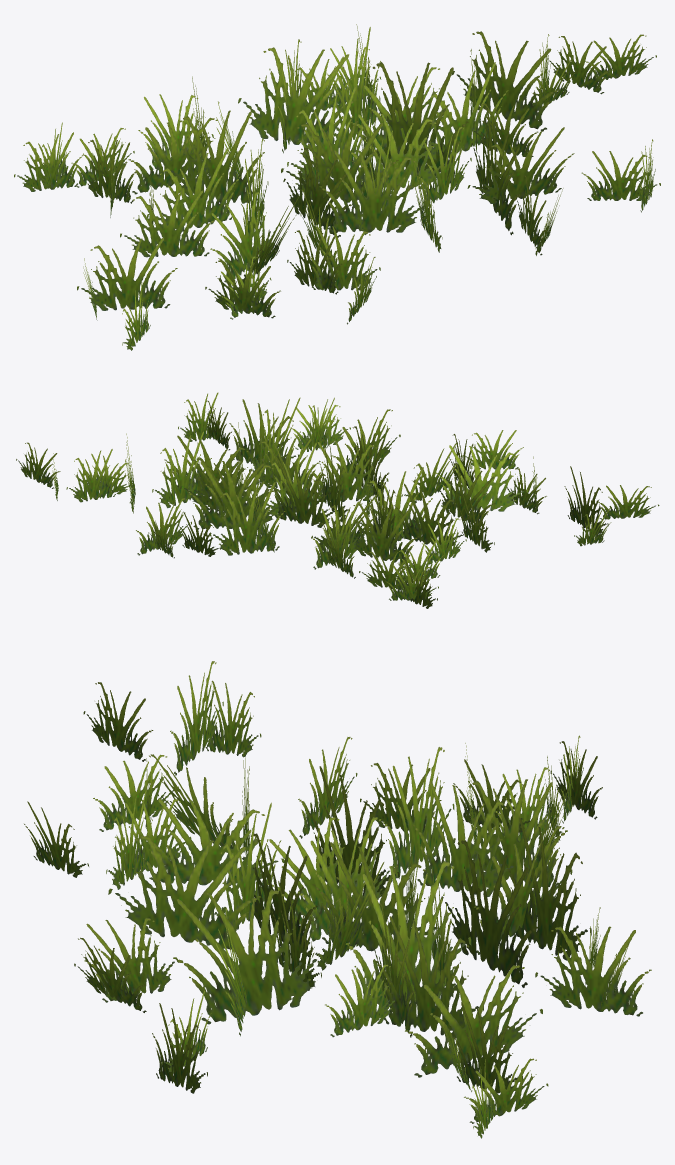
The model's file is zz_cao_3.FBX.
The picture shows the model from 3 angles, top to bottom: view 1: azimuth 30°, elevation 25°; view 2: azimuth 150°, elevation 25°; view 3: azimuth 270°, elevation 25°; orthographic projection. The views are drawn at different scales.
Visible parts, largest first — view 1: zz_cao_3; view 2: zz_cao_3; view 3: zz_cao_3.
Boxes of the visible parts, box(x1,y1,x2,y2) form: zz_cao_3: box(14, 24, 660, 350); zz_cao_3: box(16, 392, 659, 608); zz_cao_3: box(24, 661, 651, 1138).
Size of the model in its own units: 434 by 79 by 279.
